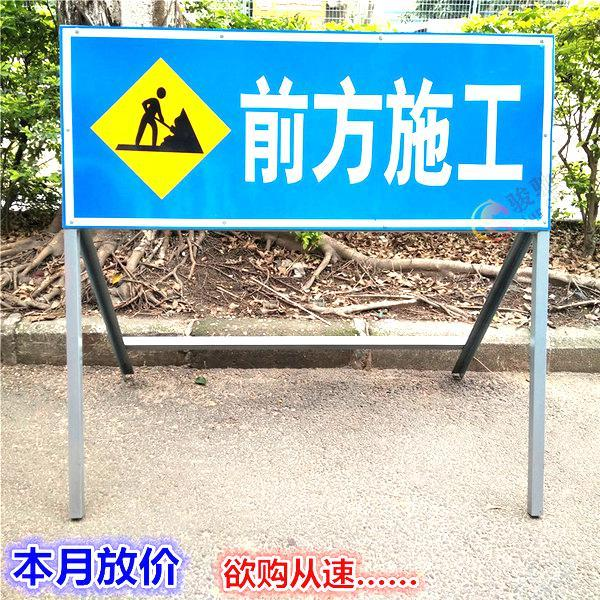sign: (62, 25, 554, 234)
